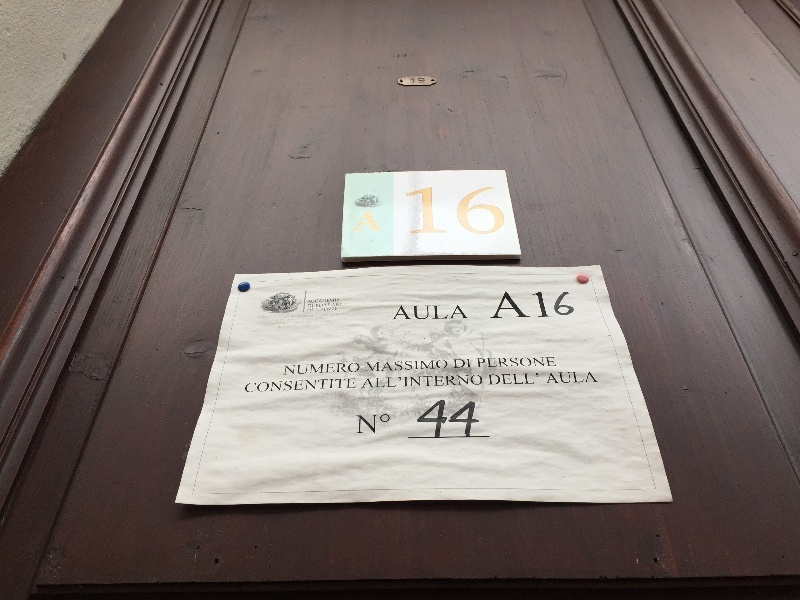text: (417, 185, 432, 237), (433, 185, 448, 237), (449, 185, 464, 237), (465, 185, 480, 237), (481, 185, 496, 237), (497, 185, 509, 237), (433, 399, 448, 438), (449, 399, 464, 438), (465, 399, 480, 438), (406, 185, 416, 237), (369, 413, 384, 434), (355, 413, 368, 434), (369, 211, 381, 232), (401, 305, 416, 321), (417, 305, 432, 321), (433, 305, 448, 321), (449, 305, 464, 321), (257, 377, 272, 393), (273, 377, 288, 393), (289, 377, 304, 393), (305, 377, 320, 393), (321, 377, 336, 393), (337, 377, 352, 393), (369, 374, 384, 389), (385, 374, 400, 389), (401, 374, 416, 389), (417, 374, 432, 389), (433, 374, 448, 389), (449, 374, 464, 389), (465, 374, 480, 389), (561, 370, 576, 385), (577, 370, 592, 385), (289, 363, 304, 376), (305, 363, 320, 376), (321, 363, 336, 376), (337, 363, 352, 376), (369, 360, 384, 373), (385, 360, 400, 373), (401, 360, 416, 373), (417, 360, 432, 373), (433, 360, 448, 373), (497, 373, 512, 386), (513, 373, 528, 386), (481, 357, 496, 368), (497, 357, 512, 368), (513, 357, 528, 368), (529, 357, 544, 368), (246, 377, 256, 393), (545, 357, 558, 368), (529, 373, 540, 386), (551, 370, 560, 385), (453, 359, 464, 369), (385, 413, 390, 434), (488, 373, 496, 386), (353, 363, 360, 376), (593, 370, 599, 385), (465, 305, 470, 321), (465, 359, 473, 369), (321, 299, 336, 304), (321, 307, 336, 312), (417, 77, 426, 85), (289, 321, 305, 325), (353, 377, 357, 393), (365, 211, 368, 232), (273, 316, 288, 320), (305, 317, 320, 321), (309, 299, 320, 304), (307, 309, 320, 313), (323, 313, 336, 317), (284, 363, 288, 376), (410, 77, 416, 85), (308, 304, 320, 308), (476, 357, 480, 368), (274, 319, 288, 322), (278, 321, 288, 325), (291, 316, 304, 319), (365, 360, 368, 373), (321, 304, 330, 308), (263, 316, 272, 320), (289, 319, 301, 322), (481, 374, 483, 389), (337, 303, 344, 307), (321, 317, 328, 321), (306, 321, 320, 323), (295, 315, 304, 318), (305, 315, 313, 318), (337, 299, 341, 304), (316, 307, 320, 312), (316, 304, 320, 308), (315, 315, 320, 318), (333, 303, 336, 307), (337, 313, 340, 317), (302, 317, 304, 321), (302, 315, 304, 318), (337, 307, 338, 312), (321, 315, 322, 318), (321, 321, 322, 323)
